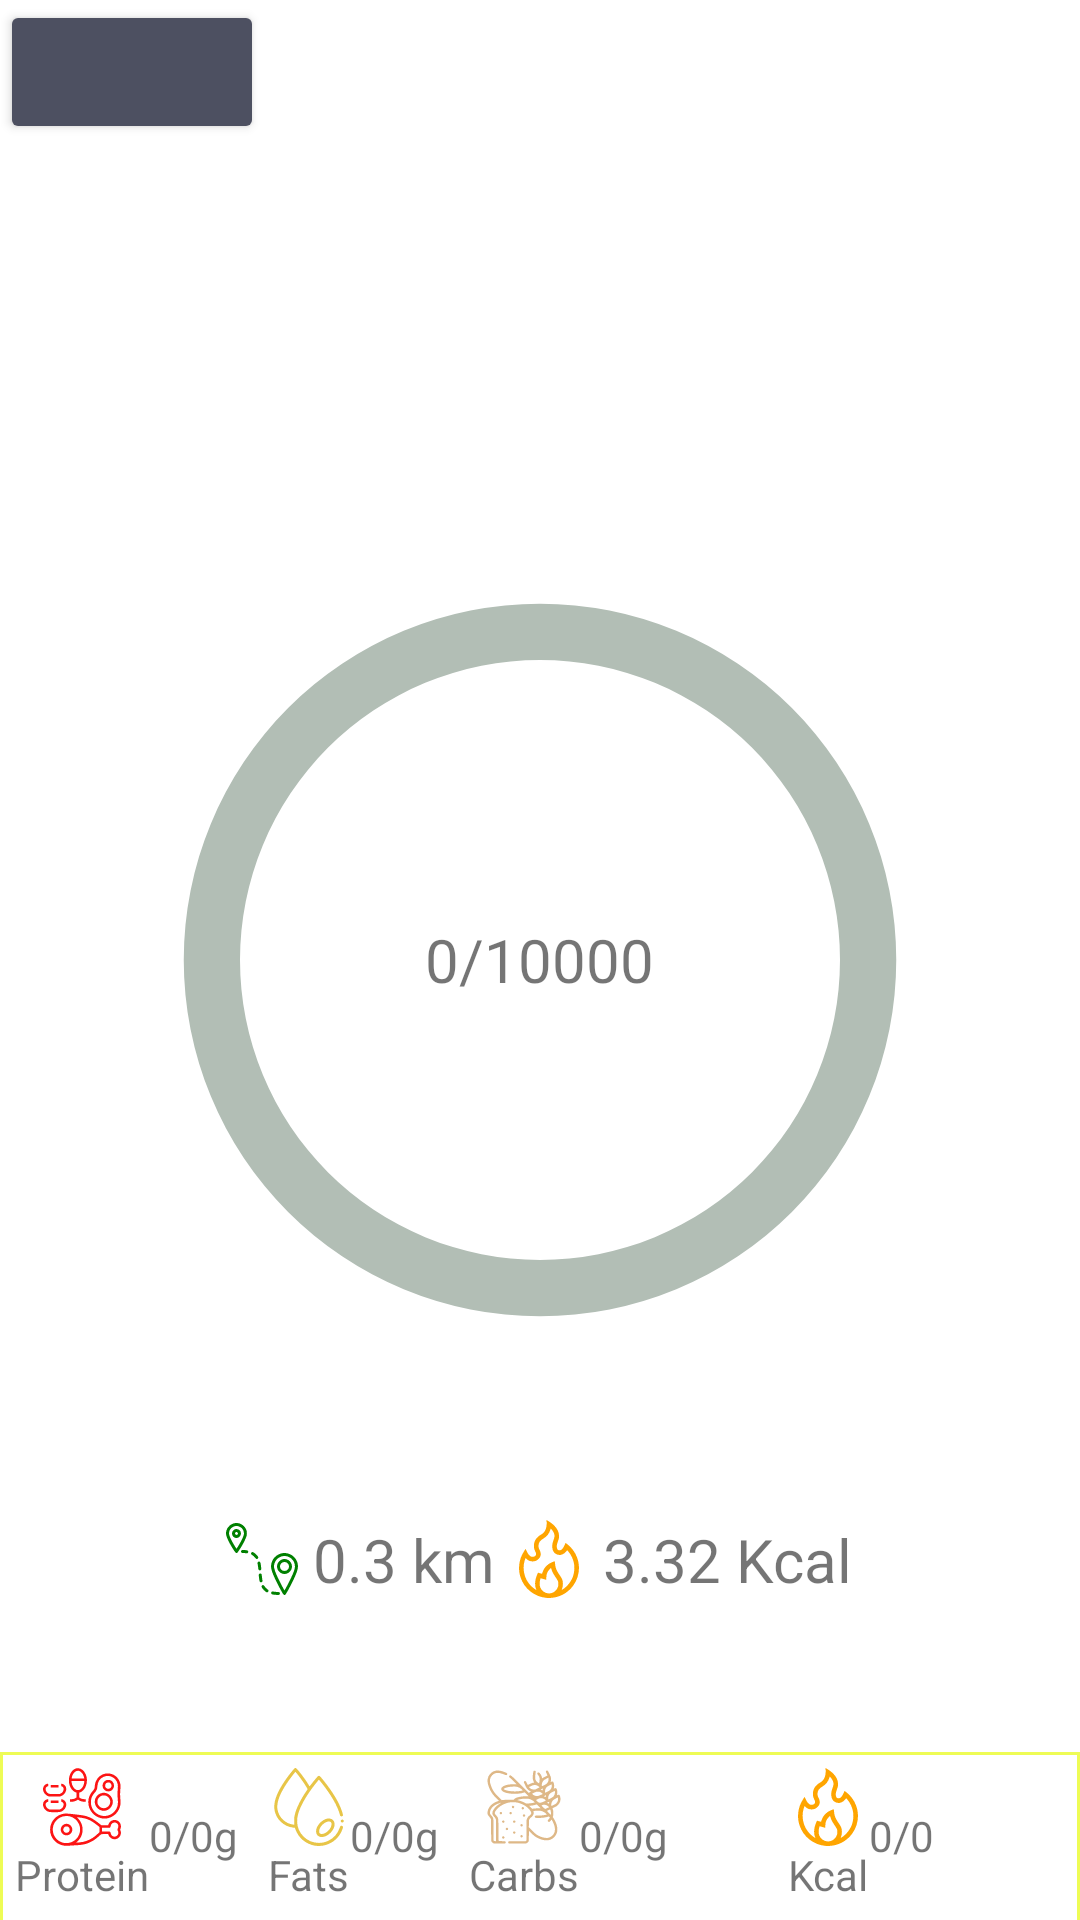

Icon bounding boxes for this 1080 × 1920 phone screenshot, format region(x1, y1, x2, y2):
bread: region(487, 1770, 561, 1844)
distance: region(226, 1523, 298, 1595)
fire: region(519, 1520, 579, 1598), region(798, 1768, 858, 1846)
meat: region(43, 1768, 121, 1846)
